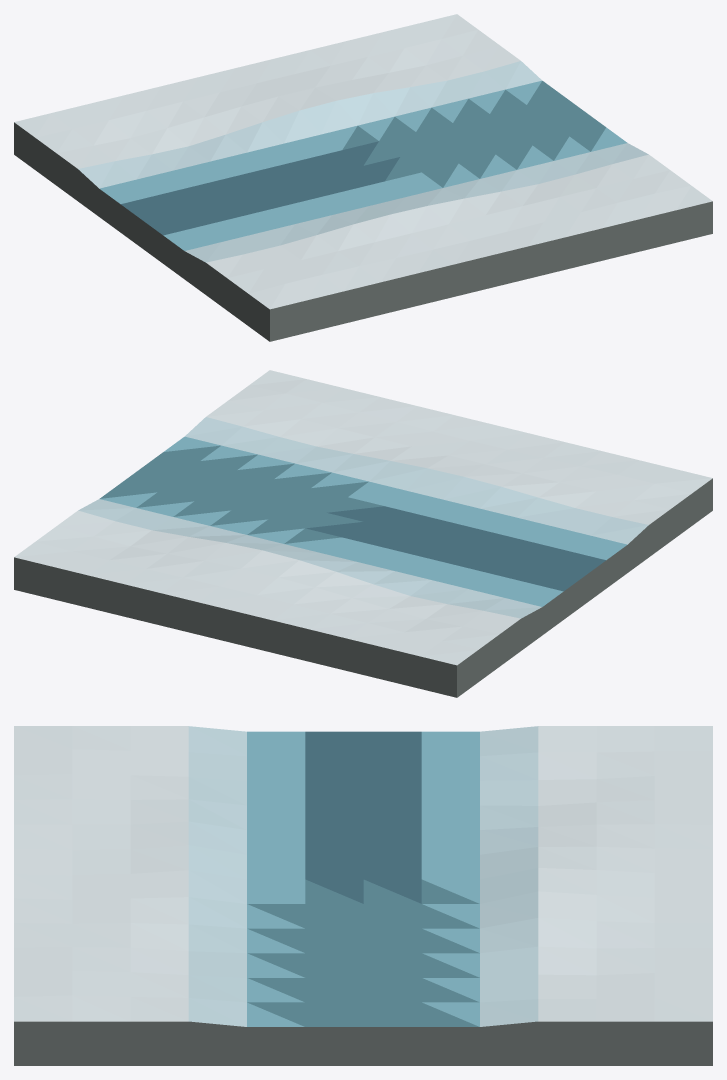
Rendered from ICE_13_PartiallyFrozenStream.glb.
The picture shows the model from 3 angles, top to bottom: view 1: azimuth 30°, elevation 25°; view 2: azimuth 150°, elevation 25°; view 3: azimuth 270°, elevation 25°; orthographic projection. The views are drawn at different scales.
Parts seen in each view (by area): view 1: ICE_13_PartiallyFrozenStream; view 2: ICE_13_PartiallyFrozenStream; view 3: ICE_13_PartiallyFrozenStream.
Boxes of the visible parts, x1,y1,x2,y2 form: ICE_13_PartiallyFrozenStream: [14, 14, 712, 341]; ICE_13_PartiallyFrozenStream: [14, 370, 712, 697]; ICE_13_PartiallyFrozenStream: [14, 726, 712, 1065].
Size of the model in its own units: 4 by 0.3247 by 4.
